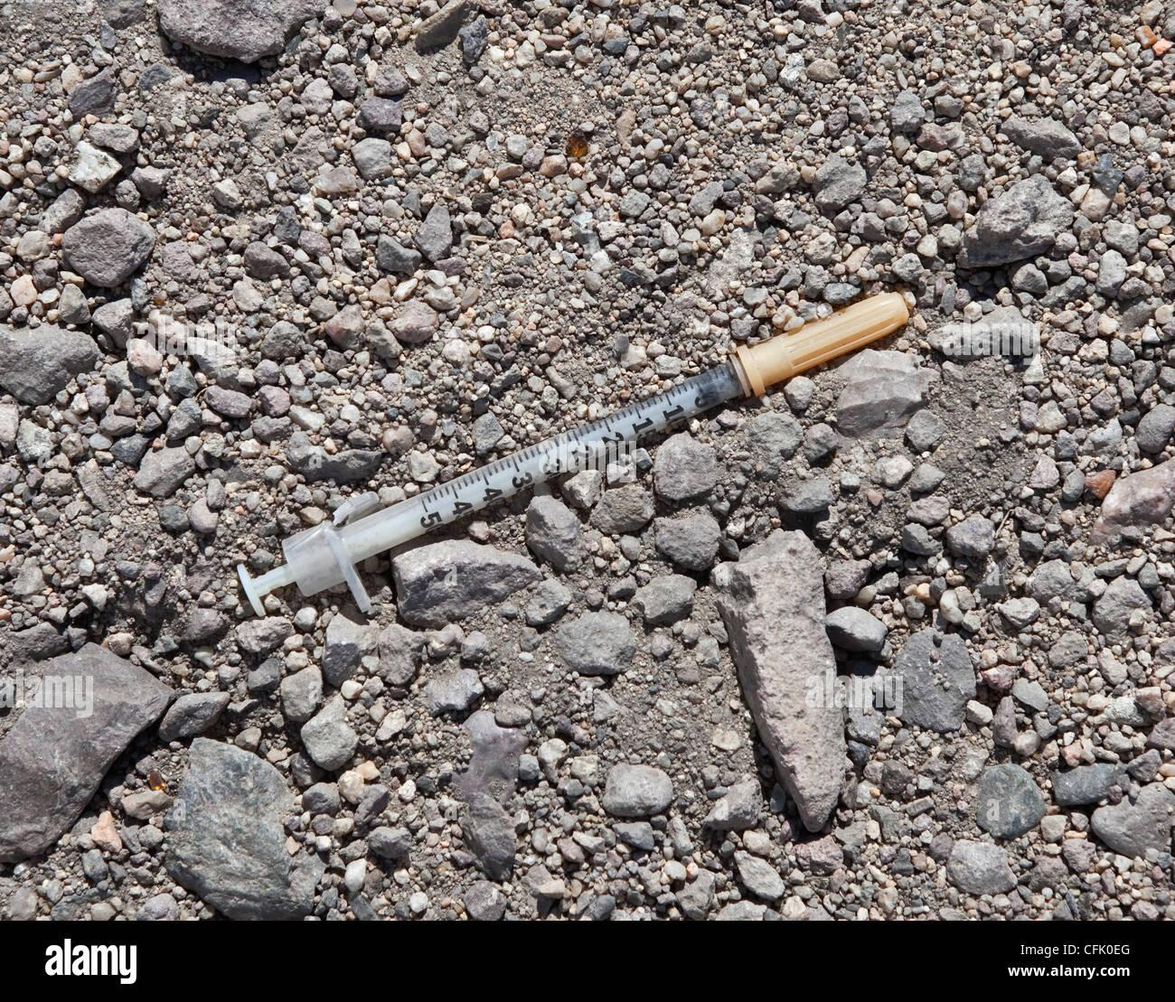Syringe: (239, 294, 907, 614)
